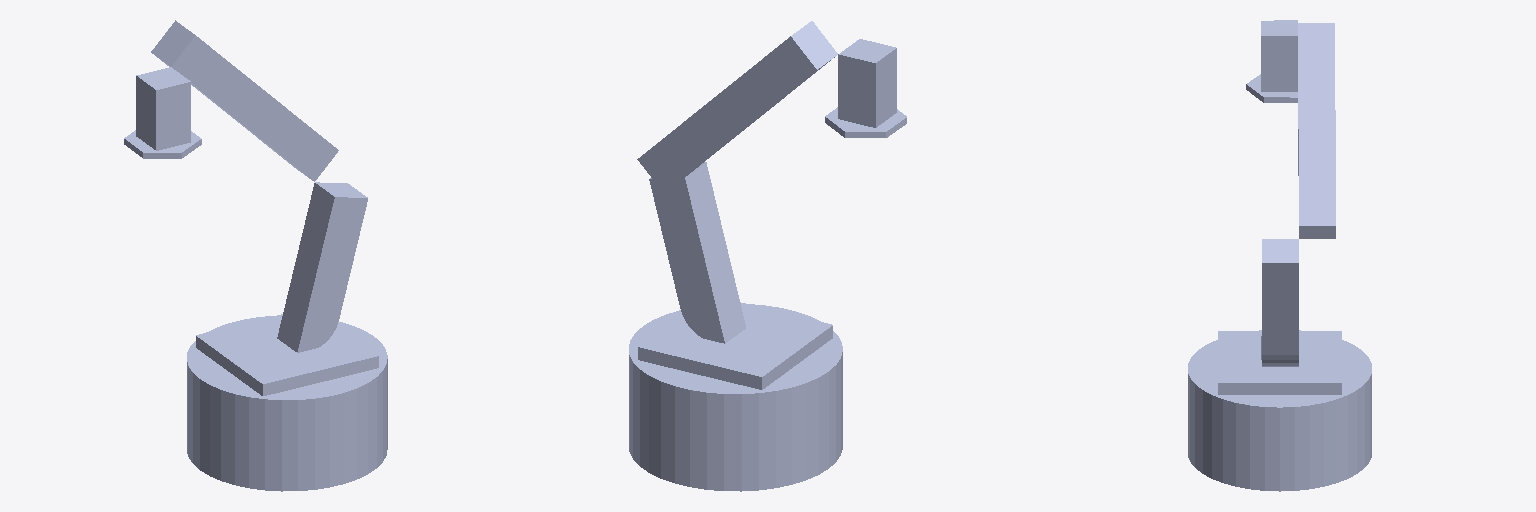
URDF robot description (brastuto):
<?xml version="1.0" encoding="utf-8" ?>
<!-- This URDF was automatically created by SolidWorks to URDF Exporter! Originally created by [author] ([email redacted]) 
     Commit Version: 1.6.0-4-g7f85cfe  Build Version: 1.6.7995.38578
     For more information, please see http://wiki.ros.org/sw_urdf_exporter -->
<robot name="brastuto">
        
  <link name="world"/>
  <joint name="base_joint" type="fixed">
    <parent link="world"/>
    <child link="base_link"/>
    <origin rpy="0 0 0" xyz="0.0 0.0 0.0"/>
  </joint>
  
  <transmission name="base_link_trans">
    <type>transmission_interface/SimpleTransmission</type>
    <joint name="base_joint">
  <hardwareInterface>hardware_interface/PositionJointInterface</hardwareInterface>
    </joint>
    <actuator name="base_link_motor">
    <hardwareInterface>hardware_interface/PositionJointInterface</hardwareInterface>
      <mechanicalReduction>1</mechanicalReduction>
    </actuator>
  </transmission>
  
  <gazebo reference="base_link">
     <selfCollide>true</selfCollide>
  </gazebo>
    
    <link name="base_link">
        <inertial>
            <origin xyz="3.21170037226077E-18 0 0.075" rpy="0 0 0" />
            <mass value="10.6028752058656" />
            <inertia ixx="0.0795215640439917" ixy="0" ixz="5.50264818312013E-34" iyy="0.0795215640439917" iyz="-2.30509329195671E-34" izz="0.119282346065988" />
        </inertial>
        <visual>
            <origin xyz="0 0 0" rpy="0 0 0" />
            <geometry>
                <mesh filename="package://brastuto/meshes/base_link.STL" />
            </geometry>
            <material name="">
                <color rgba="0.792156862745098 0.819607843137255 0.933333333333333 1" />
            </material>
        </visual>
        <collision>
            <origin xyz="0 0 0" rpy="0 0 0" />
            <geometry>
                <mesh filename="package://brastuto/meshes/base_link.STL" />
            </geometry>
        </collision>
    </link>
    <transmission name="base_link_trans">
        <type>transmission_interface/SimpleTransmission</type>
        <joint name="base_joint">
            <hardwareInterface>hardware_interface/PositionJointInterface</hardwareInterface>
        </joint>
        <actuator name="base_link_motor">
            <hardwareInterface>hardware_interface/PositionJointInterface</hardwareInterface>
            <mechanicalReduction>1</mechanicalReduction>
        </actuator>
    </transmission>
    <gazebo reference="base_link">
        <selfCollide>true</selfCollide>
        <plugin name="gazebo_ros_control">
            <robotNamespace>/</robotNamespace>
        </plugin>
    </gazebo>
    <link name="planche_Link">
        <inertial>
            <origin xyz="4.42472000875618E-17 -1.01185997552625E-17 0.01" rpy="0 0 0" />
            <mass value="0.8" />
            <inertia ixx="0.00269333333333334" ixy="3.51518673110535E-19" ixz="7.95497180962851E-20" iyy="0.00269333333333334" iyz="2.97474646357115E-21" izz="0.00533333333333334" />
        </inertial>
        <visual>
            <origin xyz="0 0 0" rpy="0 0 0" />
            <geometry>
                <mesh filename="package://brastuto/meshes/planche_Link.STL" />
            </geometry>
            <material name="">
                <color rgba="0.792156862745098 0.819607843137255 0.933333333333333 1" />
            </material>
        </visual>
        <collision>
            <origin xyz="0 0 0" rpy="0 0 0" />
            <geometry>
                <mesh filename="package://brastuto/meshes/planche_Link.STL" />
            </geometry>
        </collision>
    </link>
    <joint name="j_baseplanche" type="revolute">
        <origin xyz="0 0 0.15" rpy="0 0 0.0019691" />
        <parent link="base_link" />
        <child link="planche_Link" />
        <axis xyz="0 0 1" />
        <limit lower="0" upper="3.142" effort="0" velocity="0" />
    </joint>
    <transmission name="planche_Link_trans">
        <type>transmission_interface/SimpleTransmission</type>
        <joint name="j_baseplanche">
            <hardwareInterface>hardware_interface/PositionJointInterface</hardwareInterface>
        </joint>
        <actuator name="planche_Link_motor">
            <hardwareInterface>hardware_interface/PositionJointInterface</hardwareInterface>
            <mechanicalReduction>1</mechanicalReduction>
        </actuator>
    </transmission>
    <gazebo reference="planche_Link">
        <selfCollide>true</selfCollide>
    </gazebo>
    <link name="axe1_Link">
        <inertial>
            <origin xyz="0.029198659365422 5.14996031930615E-19 0.130098737034774" rpy="0 0 0" />
            <mass value="0.861049766656637" />
            <inertia ixx="0.00442443973409873" ixy="1.08101281079635E-19" ixz="-7.88536279591973E-05" iyy="0.00441920624893304" iyz="4.52011799703461E-21" izz="0.0005113963748283" />
        </inertial>
        <visual>
            <origin xyz="0 0 0" rpy="0 0 0" />
            <geometry>
                <mesh filename="package://brastuto/meshes/axe1_Link.STL" />
            </geometry>
            <material name="">
                <color rgba="0.792156862745098 0.819607843137255 0.933333333333333 1" />
            </material>
        </visual>
        <collision>
            <origin xyz="0 0 0" rpy="0 0 0" />
            <geometry>
                <mesh filename="package://brastuto/meshes/axe1_Link.STL" />
            </geometry>
        </collision>
    </link>
    <joint name="j_plancheaxe1" type="revolute">
        <origin xyz="0 0 0.02" rpy="0 0.2618 0" />
        <parent link="planche_Link" />
        <child link="axe1_Link" />
        <axis xyz="0 1 0" />
        <limit lower="-1.57" upper="1.57" effort="0" velocity="0" />
    </joint>
    <transmission name="axe1_Link_trans">
        <type>transmission_interface/SimpleTransmission</type>
        <joint name="j_plancheaxe1">
            <hardwareInterface>hardware_interface/PositionJointInterface</hardwareInterface>
        </joint>
        <actuator name="axe1_Link_motor">
            <hardwareInterface>hardware_interface/PositionJointInterface</hardwareInterface>
            <mechanicalReduction>1</mechanicalReduction>
        </actuator>
    </transmission>
    <gazebo reference="axe1_Link">
        <selfCollide>true</selfCollide>
    </gazebo>
    <link name="axe2_Link">
        <inertial>
            <origin xyz="-0.0299999999999999 0.0299997673533926 -0.175" rpy="0 0 0" />
            <mass value="1.26" />
            <inertia ixx="0.0132405" ixy="1.34791848090806E-19" ixz="6.17995238316738E-18" iyy="0.0132405" iyz="1.39274165388184E-18" izz="0.000756000000000002" />
        </inertial>
        <visual>
            <origin xyz="0 0 0" rpy="0 0 0" />
            <geometry>
                <mesh filename="package://brastuto/meshes/axe2_Link.STL" />
            </geometry>
            <material name="">
                <color rgba="0.792156862745098 0.819607843137255 0.933333333333333 1" />
            </material>
        </visual>
        <collision>
            <origin xyz="0 0 0" rpy="0 0 0" />
            <geometry>
                <mesh filename="package://brastuto/meshes/axe2_Link.STL" />
            </geometry>
        </collision>
    </link>
    <joint name="j_axe1axe2" type="revolute">
        <origin xyz="0 0.03 0.25" rpy="-3.1416 1.0472 -3.1416" />
        <parent link="axe1_Link" />
        <child link="axe2_Link" />
        <axis xyz="0 1 0" />
        <limit lower="-1.57" upper="1.57" effort="0" velocity="0" />
    </joint>
    <transmission name="axe2_Link_trans">
        <type>transmission_interface/SimpleTransmission</type>
        <joint name="j_axe1axe2">
            <hardwareInterface>hardware_interface/PositionJointInterface</hardwareInterface>
        </joint>
        <actuator name="axe2_Link_motor">
            <hardwareInterface>hardware_interface/PositionJointInterface</hardwareInterface>
            <mechanicalReduction>1</mechanicalReduction>
        </actuator>
    </transmission>
    <gazebo reference="axe2_Link">
        <selfCollide>true</selfCollide>
    </gazebo>
    <link name="axe3_Link">
        <inertial>
            <origin xyz="-0.0299999999999999 -0.0299997673533926 -0.05" rpy="0 0 0" />
            <mass value="0.36" />
            <inertia ixx="0.000408" ixy="1.88464830764082E-20" ixz="1.43913684980206E-19" iyy="0.000408" iyz="1.04853498295138E-20" izz="0.000216" />
        </inertial>
        <visual>
            <origin xyz="0 0 0" rpy="0 0 0" />
            <geometry>
                <mesh filename="package://brastuto/meshes/axe3_Link.STL" />
            </geometry>
            <material name="">
                <color rgba="0.792156862745098 0.819607843137255 0.933333333333333 1" />
            </material>
        </visual>
        <collision>
            <origin xyz="0 0 0" rpy="0 0 0" />
            <geometry>
                <mesh filename="package://brastuto/meshes/axe3_Link.STL" />
            </geometry>
        </collision>
    </link>
    <joint name="j_axe2axe3" type="revolute">
        <origin xyz="0 0 -0.35" rpy="-3.1416 -0.7854 3.1416" />
        <parent link="axe2_Link" />
        <child link="axe3_Link" />
        <axis xyz="0 -1 0" />
        <limit lower="-1.57" upper="3.142" effort="0" velocity="0" />
    </joint>
    <transmission name="axe3_Link_trans">
        <type>transmission_interface/SimpleTransmission</type>
        <joint name="j_axe2axe3">
            <hardwareInterface>hardware_interface/PositionJointInterface</hardwareInterface>
        </joint>
        <actuator name="axe3_Link_motor">
            <hardwareInterface>hardware_interface/PositionJointInterface</hardwareInterface>
            <mechanicalReduction>1</mechanicalReduction>
        </actuator>
    </transmission>
    <gazebo reference="axe3_Link">
        <selfCollide>true</selfCollide>
    </gazebo>
    <link name="outil_Link">
        <inertial>
            <origin xyz="0.00233808588927528 -0.00265649043854835 -0.005" rpy="0 0 0" />
            <mass value="0.086602540378444" />
            <inertia ixx="6.08623408770733E-05" ixy="2.37169225231204E-20" ixz="-3.18349582326935E-22" iyy="6.08623408770732E-05" iyz="5.87220798619158E-23" izz="0.000120281306081172" />
        </inertial>
        <visual>
            <origin xyz="0 0 0" rpy="0 0 0" />
            <geometry>
                <mesh filename="package://brastuto/meshes/outil_Link.STL" />
            </geometry>
            <material name="">
                <color rgba="0.792156862745098 0.819607843137255 0.933333333333333 1" />
            </material>
        </visual>
        <collision>
            <origin xyz="0 0 0" rpy="0 0 0" />
            <geometry>
                <mesh filename="package://brastuto/meshes/outil_Link.STL" />
            </geometry>
        </collision>
    </link>
    <joint name="j_outilaxe3" type="revolute">
        <origin xyz="-0.03 -0.03 -0.1" rpy="0 0 2.2472" />
        <parent link="axe3_Link" />
        <child link="outil_Link" />
        <axis xyz="0 0 -1" />
        <limit lower="0" upper="3.142" effort="0" velocity="0" />
    </joint>
    <transmission name="outil_Link_trans">
        <type>transmission_interface/SimpleTransmission</type>
        <joint name="j_outilaxe3">
            <hardwareInterface>hardware_interface/PositionJointInterface</hardwareInterface>
        </joint>
        <actuator name="outil_Link_motor">
            <hardwareInterface>hardware_interface/PositionJointInterface</hardwareInterface>
            <mechanicalReduction>1</mechanicalReduction>
        </actuator>
    </transmission>
    <gazebo reference="outil_Link">
        <selfCollide>true</selfCollide>
    </gazebo>
    <gazebo>
        <plugin name="control" filename="libgazebo_ros_control.so">
            <robotNamespace>/</robotNamespace>
        </plugin>
    </gazebo>
</robot>

--- Facts derived from the render (not from the file) ---
Views: 3 orthographic renders of the robot side by side, from view 1: azimuth 30°, elevation 25°; view 2: azimuth 150°, elevation 25°; view 3: azimuth 270°, elevation 25°.
Robot: brastuto — 7 links, 6 joints (5 revolute, 1 fixed); root link world; default pose: every joint at zero.
Links seen in each view (by area): view 1: base_link, axe1_Link, axe2_Link, planche_Link, axe3_Link, outil_Link; view 2: base_link, axe2_Link, axe1_Link, planche_Link, axe3_Link, outil_Link; view 3: base_link, axe2_Link, planche_Link, axe1_Link, axe3_Link, outil_Link.
Link boxes in pixels (left/top/right/bottom): base_link: left=187, top=316, right=387, bottom=491; axe1_Link: left=277, top=182, right=367, bottom=352; axe2_Link: left=151, top=20, right=338, bottom=181; planche_Link: left=196, top=314, right=378, bottom=395; axe3_Link: left=136, top=67, right=190, bottom=150; outil_Link: left=124, top=130, right=201, bottom=158; base_link: left=629, top=304, right=842, bottom=491; axe2_Link: left=637, top=21, right=837, bottom=192; axe1_Link: left=649, top=162, right=745, bottom=343; planche_Link: left=638, top=302, right=832, bottom=389; axe3_Link: left=838, top=39, right=896, bottom=127; outil_Link: left=825, top=107, right=906, bottom=137; base_link: left=1188, top=330, right=1371, bottom=491; axe2_Link: left=1298, top=23, right=1335, bottom=238; planche_Link: left=1218, top=331, right=1341, bottom=394; axe1_Link: left=1261, top=239, right=1298, bottom=366; axe3_Link: left=1261, top=20, right=1297, bottom=91; outil_Link: left=1246, top=74, right=1297, bottom=102.
Bounding box of the posed robot: 0.4126 × 0.299 × 0.7014 m (x, y, z).
Meshes: 6 distinct files referenced, 6 mesh visuals loaded (6 binary STL).
